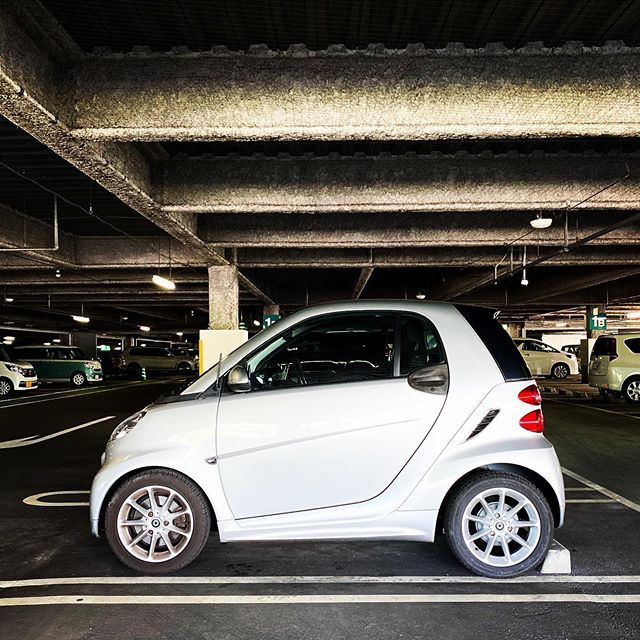car: (90, 301, 576, 594)
